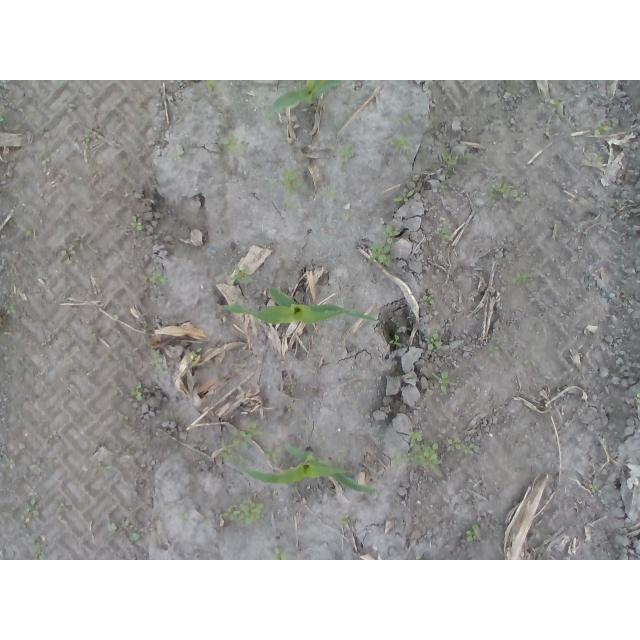Maize: (242, 444, 378, 493), (219, 283, 379, 323), (267, 80, 343, 117)
Weeds: (404, 429, 443, 472), (220, 498, 265, 526), (230, 421, 263, 451), (438, 150, 475, 174), (17, 530, 45, 560), (487, 182, 526, 203), (222, 127, 251, 153), (280, 166, 305, 194), (446, 438, 479, 457), (367, 243, 393, 266), (384, 135, 416, 153), (326, 144, 358, 161), (432, 371, 455, 394), (63, 240, 82, 265), (144, 271, 168, 290), (263, 446, 288, 463), (160, 406, 185, 423), (235, 265, 256, 283), (384, 224, 400, 245), (388, 449, 405, 468), (465, 523, 480, 544), (105, 520, 129, 533), (149, 349, 163, 370), (25, 496, 39, 517), (424, 335, 440, 353), (511, 271, 529, 287), (591, 121, 609, 137), (392, 191, 414, 204), (392, 111, 417, 122), (222, 441, 235, 462), (80, 129, 97, 145), (128, 214, 144, 230), (433, 227, 451, 241), (129, 383, 143, 401), (340, 512, 353, 529), (55, 494, 66, 514), (323, 183, 337, 198), (272, 548, 289, 560), (336, 448, 348, 465), (207, 81, 225, 92), (549, 97, 567, 108), (171, 148, 186, 161), (64, 354, 76, 370), (420, 295, 437, 306), (190, 346, 203, 360), (36, 144, 47, 160), (62, 103, 77, 114), (4, 457, 16, 470), (590, 156, 603, 168), (2, 303, 16, 314), (389, 334, 401, 346), (21, 227, 33, 238), (589, 481, 600, 493), (0, 110, 8, 126), (95, 463, 106, 474), (615, 199, 626, 209), (87, 327, 97, 337), (129, 531, 139, 541), (31, 464, 42, 473), (288, 383, 297, 394), (33, 127, 45, 135), (634, 390, 640, 406), (52, 81, 65, 88), (143, 319, 151, 329), (439, 185, 449, 193), (180, 512, 189, 520), (216, 244, 225, 252), (287, 404, 294, 412), (112, 314, 120, 321)
